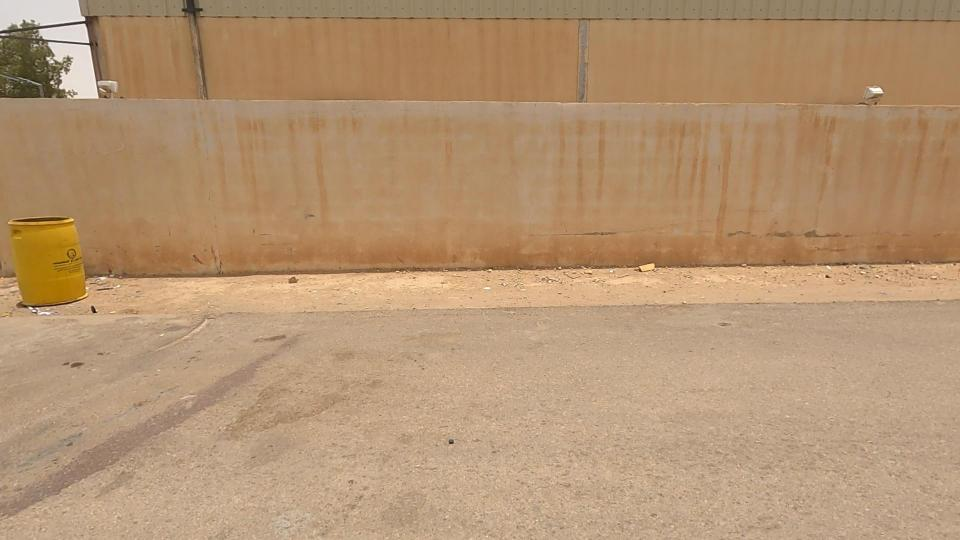GARBAGE: (68, 247, 146, 322), (610, 239, 684, 300), (10, 284, 69, 338)
